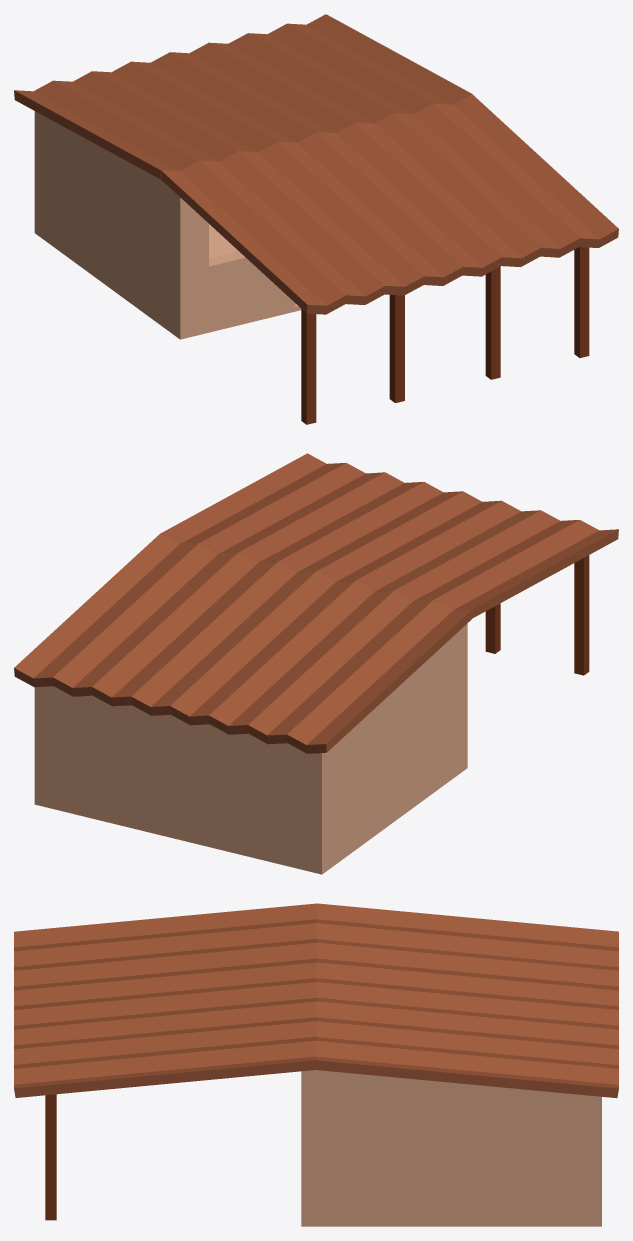
File: Building_01.fbx
3 views of the same model, one above another, from view 1: azimuth 30°, elevation 25°; view 2: azimuth 150°, elevation 25°; view 3: azimuth 270°, elevation 25° (orthographic). The views are drawn at different scales.
Parts seen in each view (by area): view 1: Roof, Building_V01, Poles; view 2: Roof, Building_V01, Poles; view 3: Roof, Building_V01, Poles.
Boxes of the visible parts, x1,y1,x2,y2 form: Roof: (14, 14, 618, 314); Building_V01: (34, 111, 301, 339); Poles: (301, 247, 589, 424); Roof: (14, 453, 618, 753); Building_V01: (34, 623, 467, 874); Poles: (485, 555, 589, 675); Roof: (14, 903, 618, 1098); Building_V01: (301, 1070, 601, 1226); Poles: (45, 1094, 56, 1220).
Size of the model in its own units: 534 by 273 by 869.
